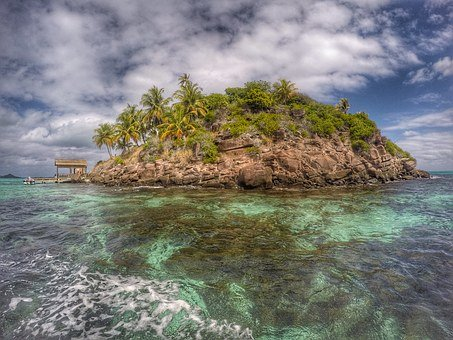lake: (7, 179, 448, 323)
sky: (2, 6, 445, 114)
stone: (93, 75, 411, 187)
